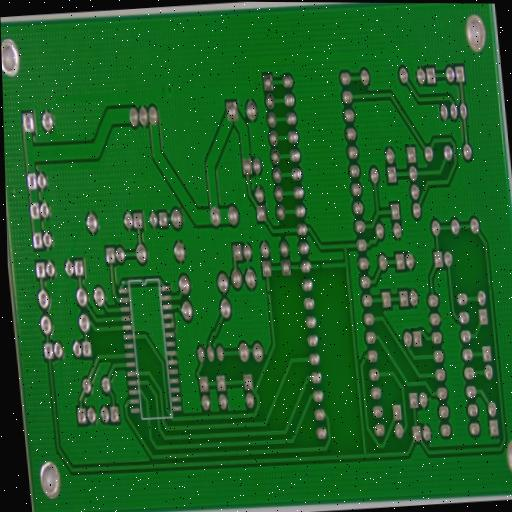open_circuit: (266, 287, 272, 298), (317, 261, 323, 270)
